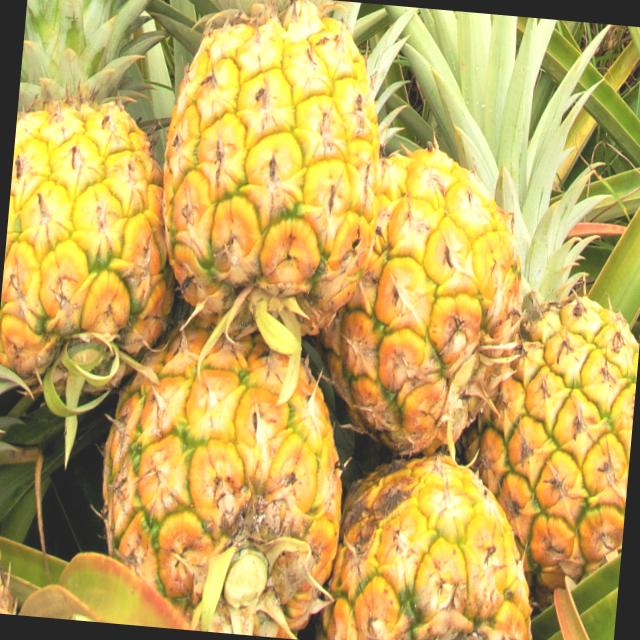pork: (93, 320, 358, 640), (148, 4, 390, 330), (320, 133, 522, 455), (0, 79, 189, 400), (465, 226, 640, 568), (322, 449, 542, 640)
